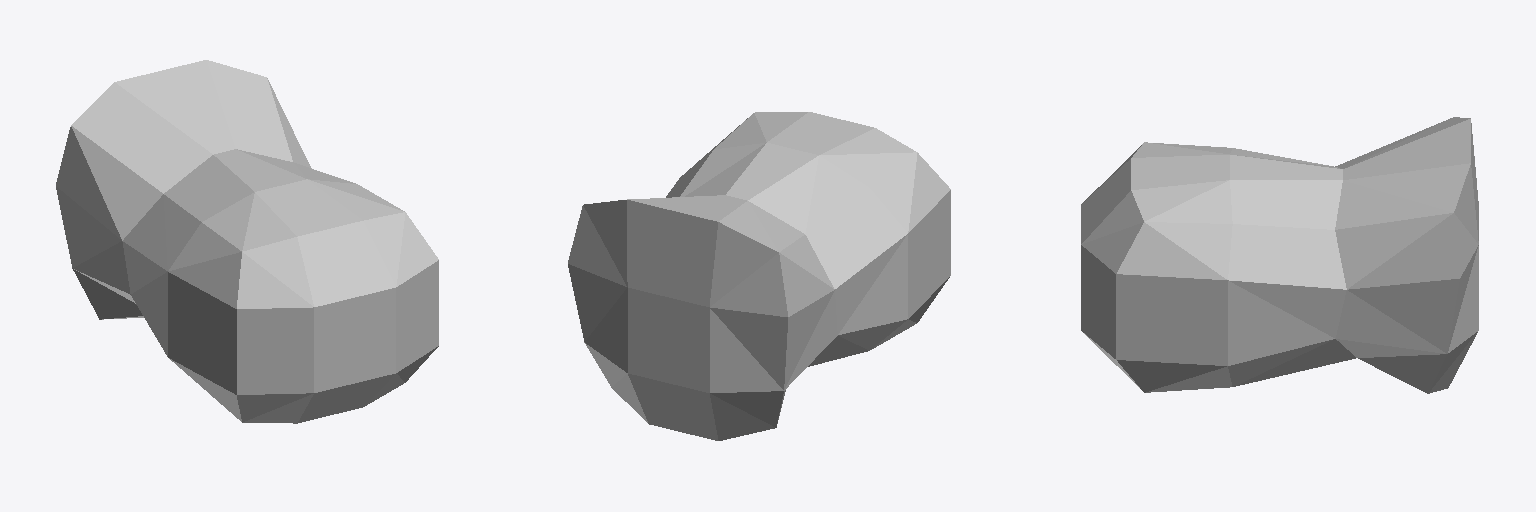
Rendered from inufumocolission.obj.
The picture shows the model from 3 angles: view 1: azimuth 30°, elevation 25°; view 2: azimuth 150°, elevation 25°; view 3: azimuth 270°, elevation 25°; orthographic projection.
Visible parts, largest first — view 1: Cube_Cube.011; view 2: Cube_Cube.011; view 3: Cube_Cube.011.
Part boxes in pixels (bbox=[...]): Cube_Cube.011: bbox=[56, 60, 438, 423]; Cube_Cube.011: bbox=[568, 112, 950, 440]; Cube_Cube.011: bbox=[1081, 117, 1478, 393].
Bounding box in the file's own units: 14.86 × 14.32 × 22.4.